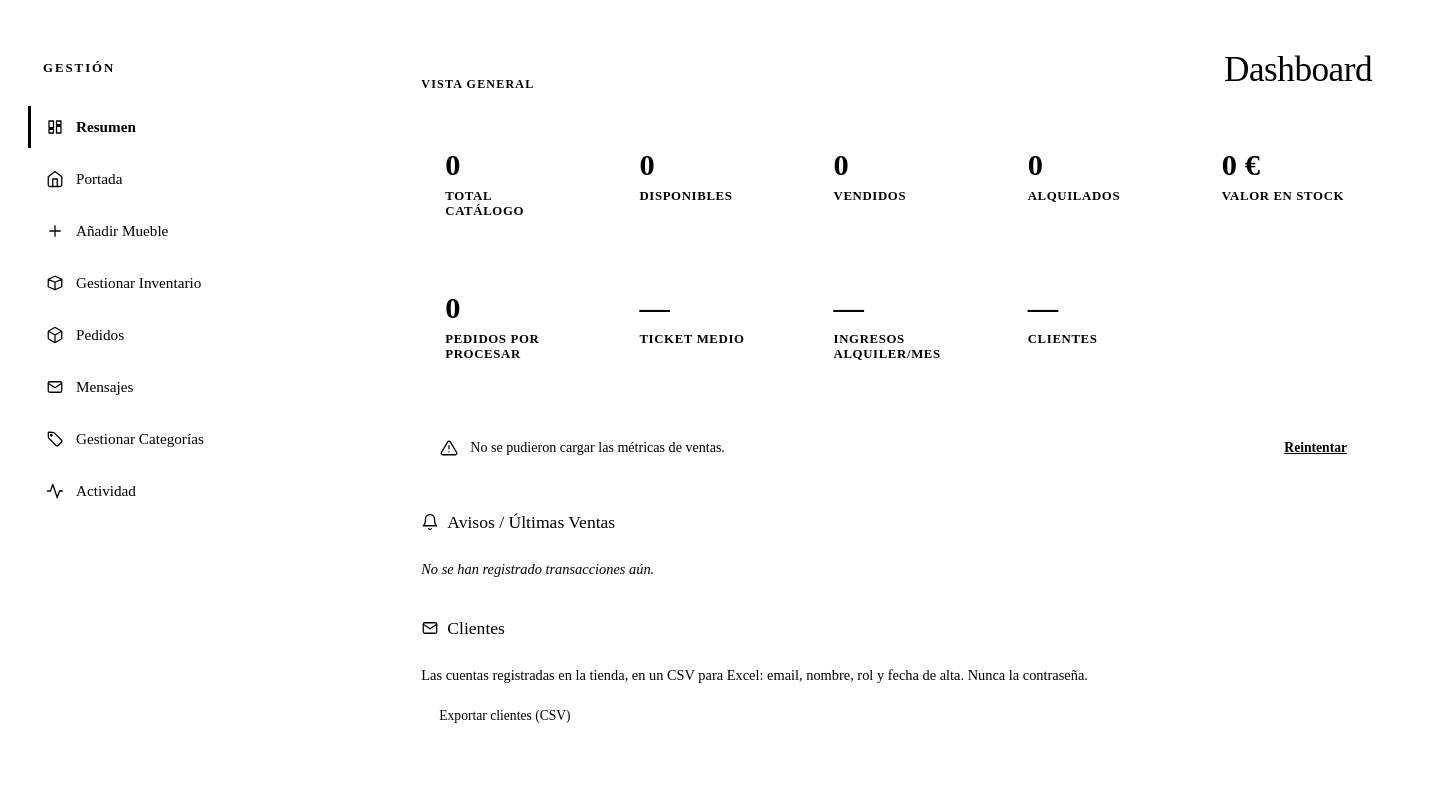
Mensajes — la lista › sin mensajes, lo dice
The image size is (1440, 810).
Click the button "Mensajes". click: (105, 386)
box: [28,366,341,408]
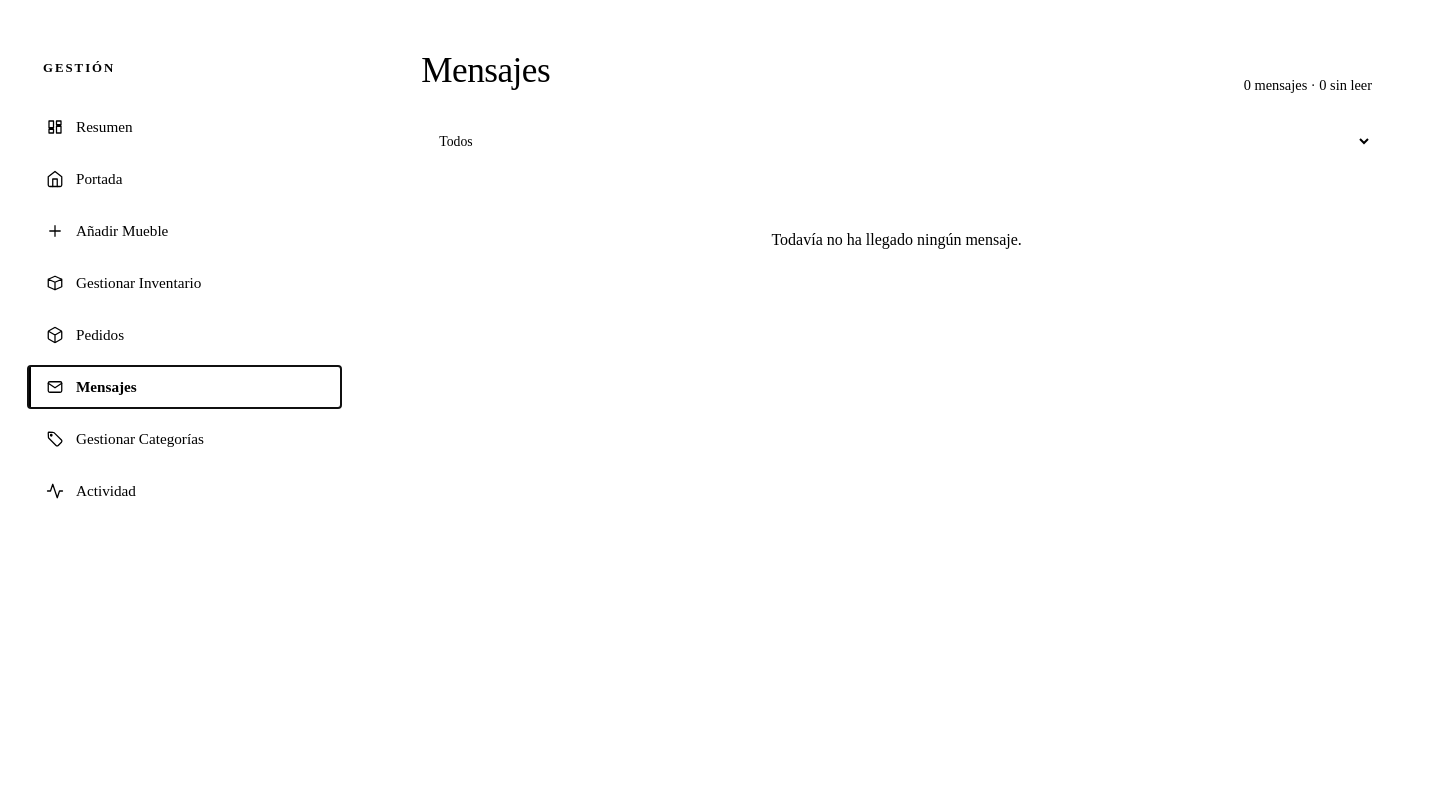
Now the text "Todavía no ha llegado ningún mensaje." is shown, box [771,231,1022,248]
